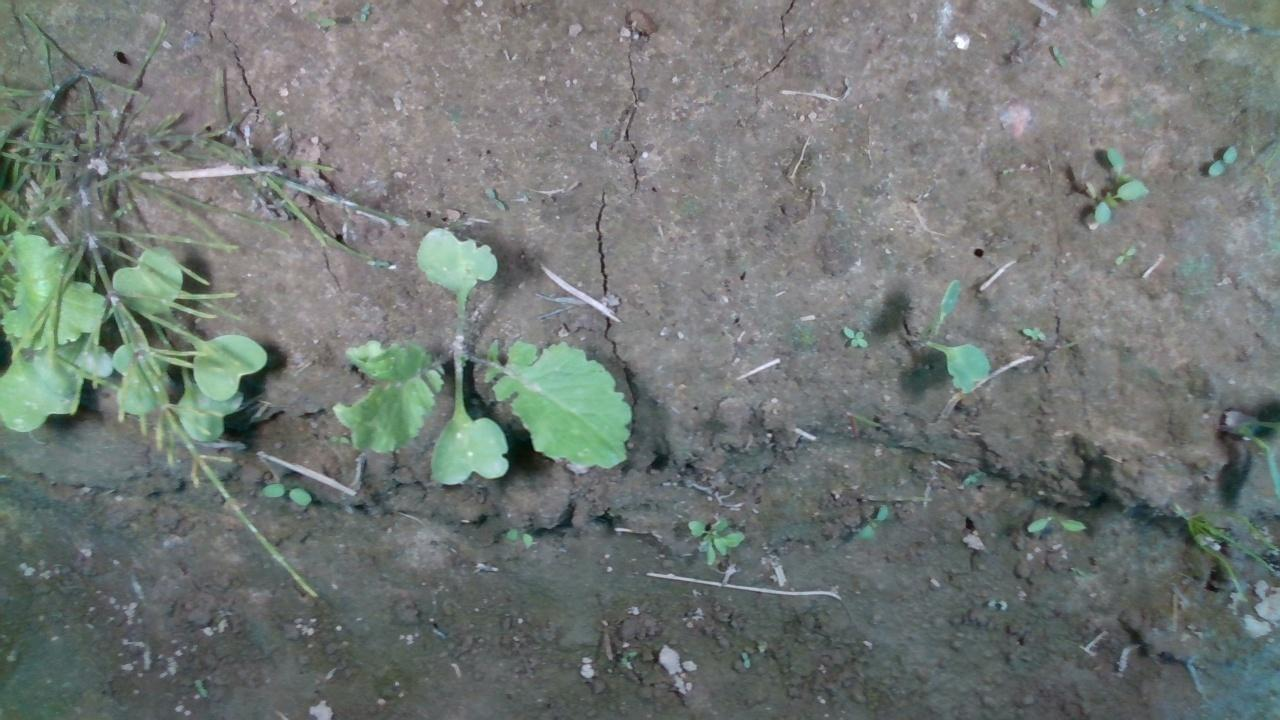weed: (257, 476, 327, 510), (491, 521, 550, 555), (1206, 137, 1250, 179), (841, 321, 886, 354), (1019, 320, 1060, 347)
